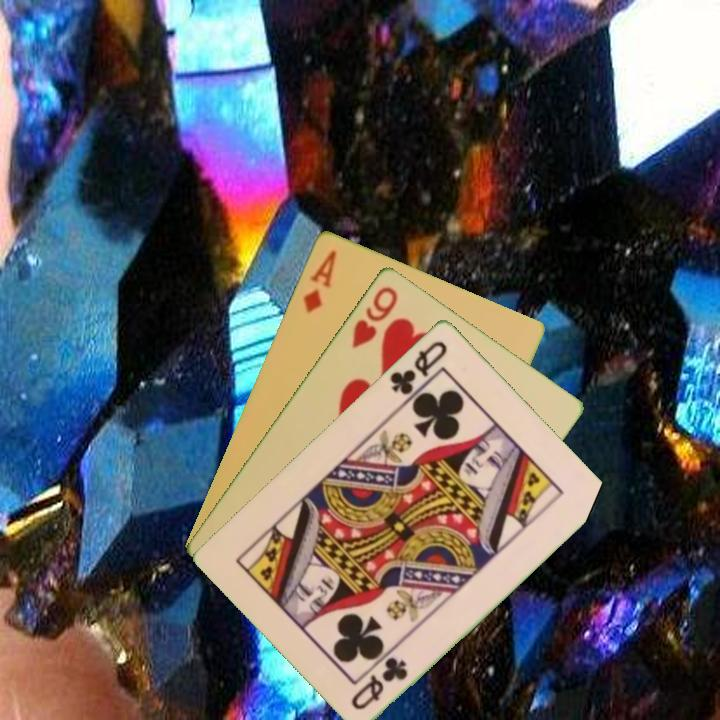9h: (347, 282, 401, 351)
Ad: (299, 245, 340, 316)
Qc: (386, 336, 451, 406), (347, 653, 411, 712)
